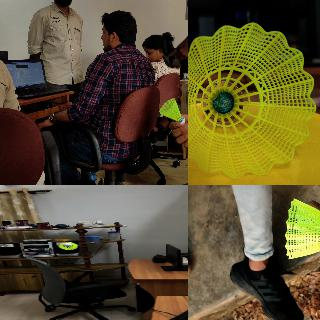shuttlecock: (188, 22, 317, 177), (284, 197, 319, 260), (159, 98, 185, 124), (58, 242, 78, 250)
